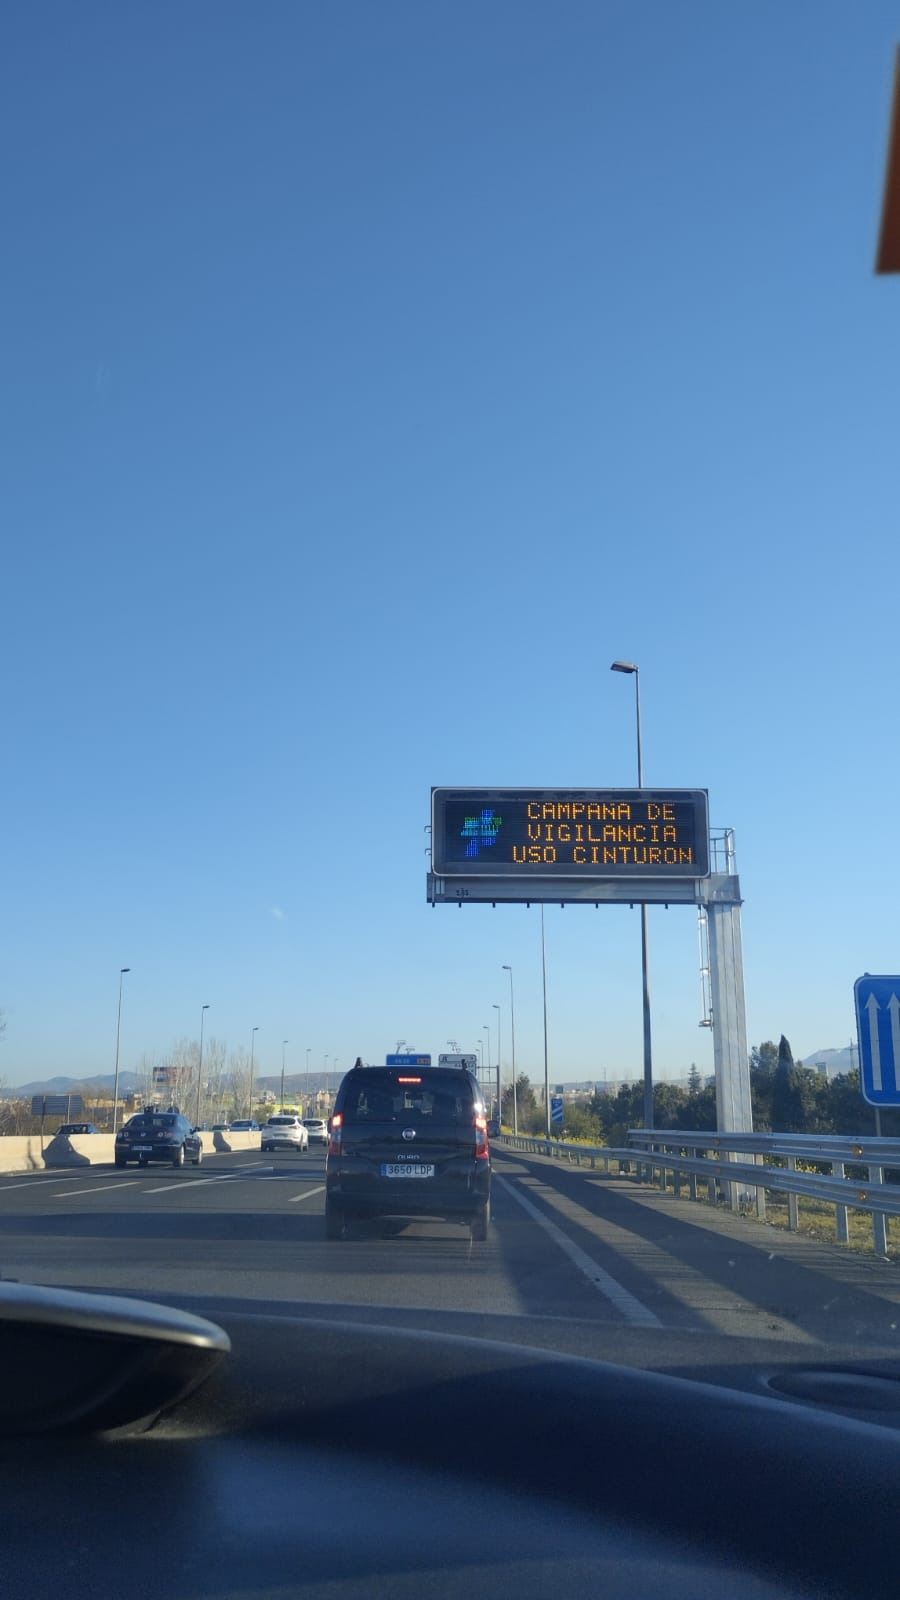car: (336, 1063, 501, 1240), (105, 1101, 208, 1185), (266, 1104, 319, 1163)
